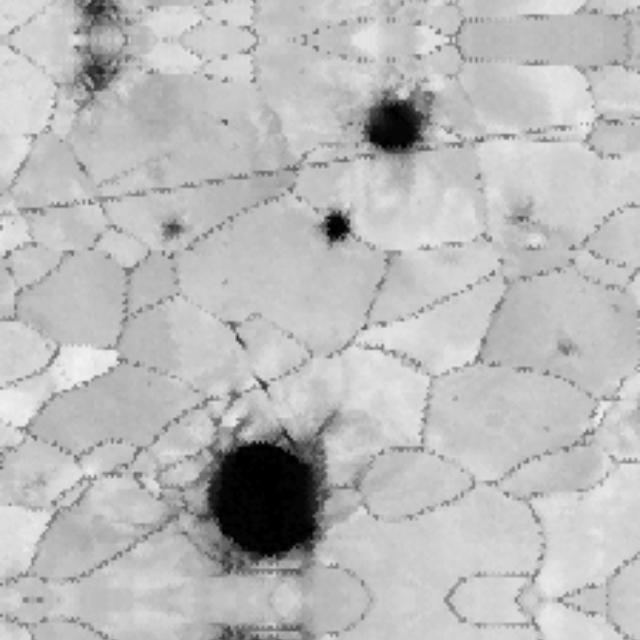good_void: (163, 390, 343, 580), (349, 83, 441, 172), (65, 44, 140, 115), (65, 0, 140, 38), (309, 209, 364, 249), (546, 330, 585, 368), (505, 198, 543, 235), (225, 318, 259, 359), (149, 221, 184, 248), (253, 376, 282, 403), (217, 113, 236, 135), (75, 159, 93, 182), (3, 262, 18, 283)
